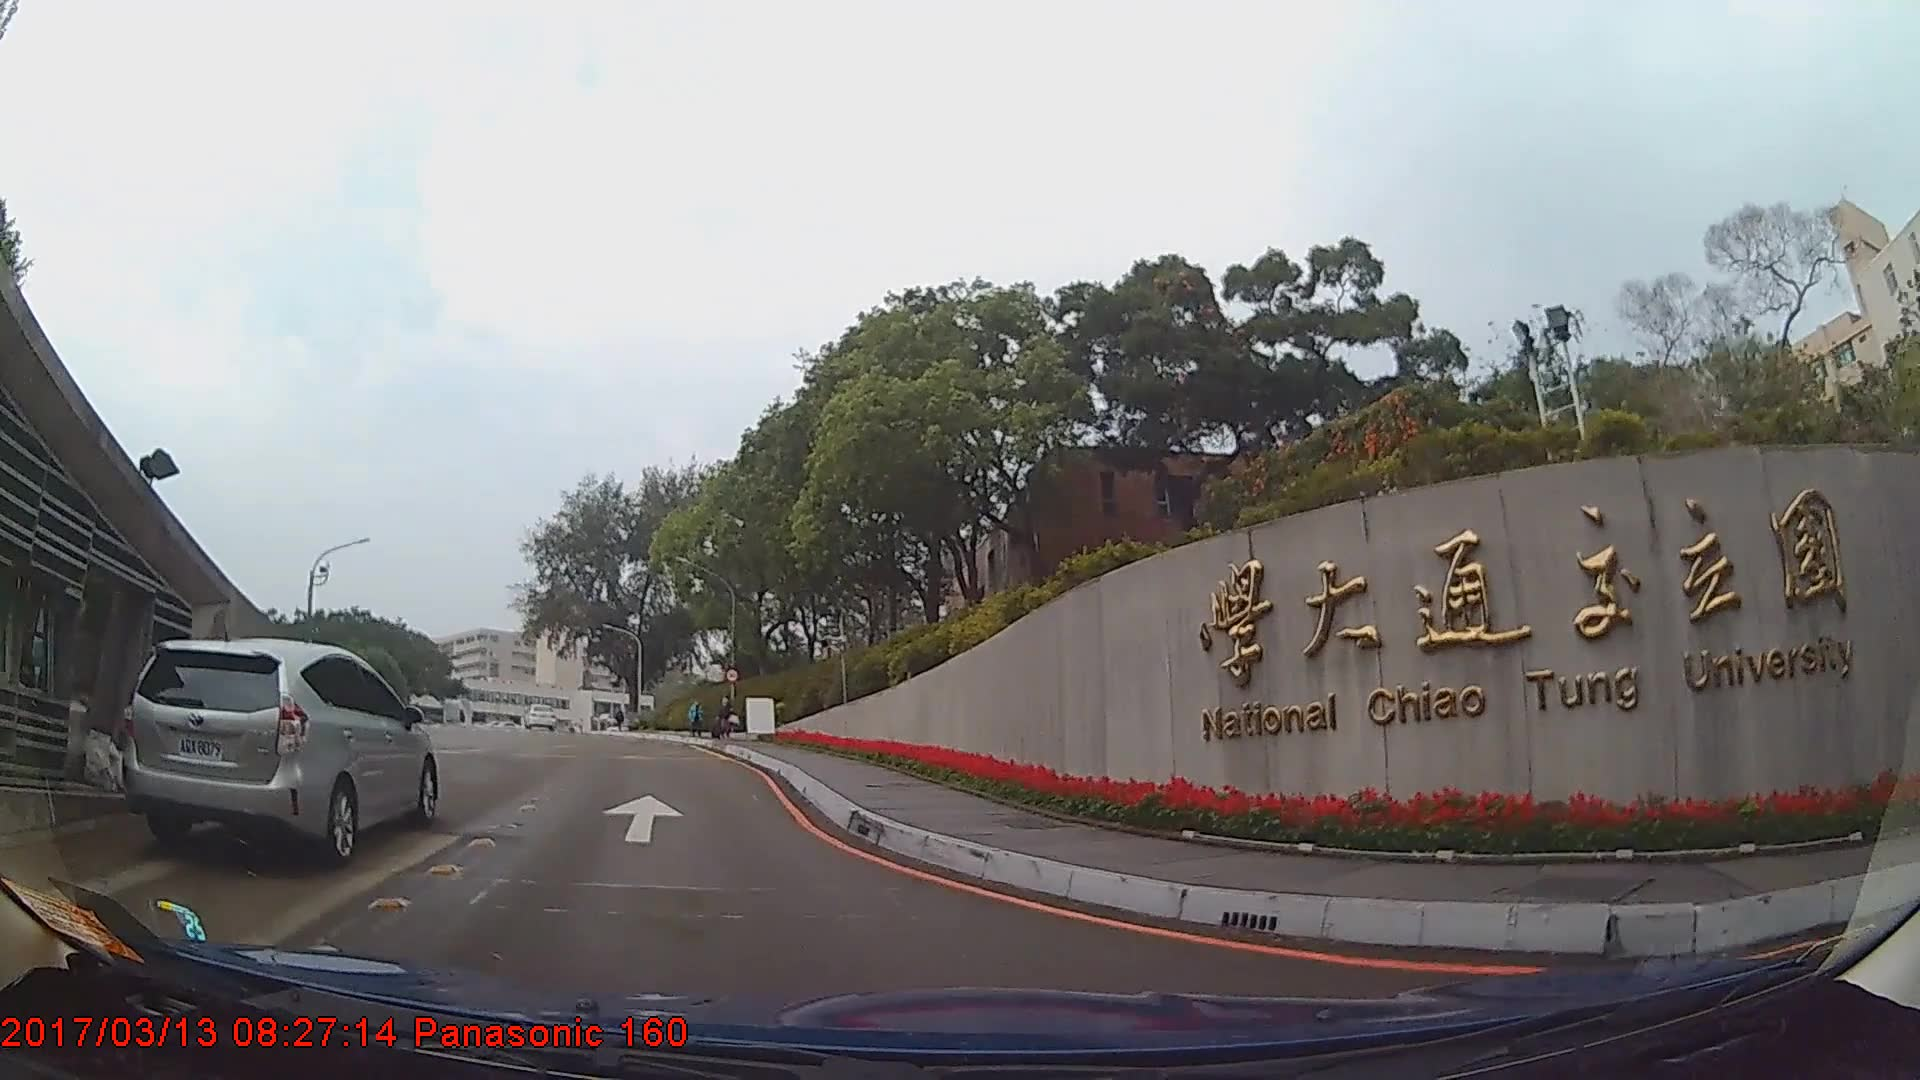vehicle: (120, 636, 438, 864), (524, 699, 558, 731)
